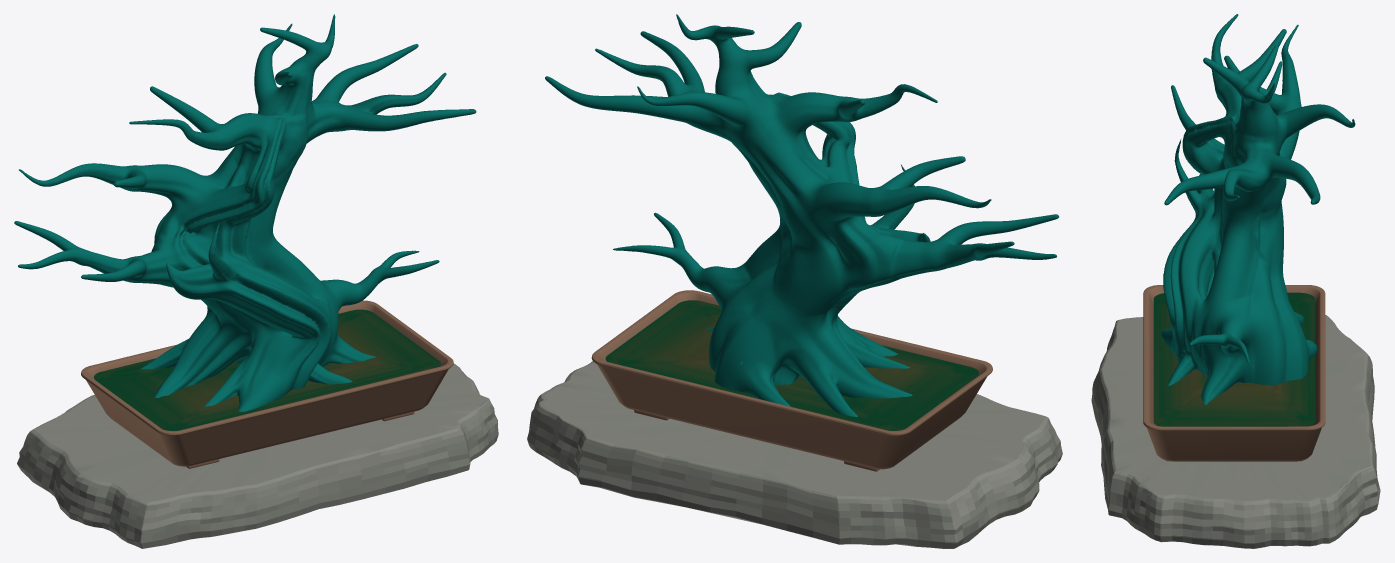
File: hero-v19.glb
3 views of the same model, side by side, from view 1: azimuth 30°, elevation 25°; view 2: azimuth 150°, elevation 25°; view 3: azimuth 270°, elevation 25° (orthographic). The views are drawn at different scales.
Parts seen in each view (by area): view 1: Continuous aged trunk and primary branches, Low split natural bedding stone, Shallow unglazed pot, Continuous planted soil; view 2: Continuous aged trunk and primary branches, Low split natural bedding stone, Shallow unglazed pot, Continuous planted soil; view 3: Continuous aged trunk and primary branches, Low split natural bedding stone, Continuous planted soil, Shallow unglazed pot.
Part boxes in pixels (x1,y1,x2,y2): Continuous aged trunk and primary branches: (14,14,476,411); Low split natural bedding stone: (17,363,498,548); Shallow unglazed pot: (81,300,453,466); Continuous planted soil: (93,309,440,430); Continuous aged trunk and primary branches: (545,14,1059,416); Low split natural bedding stone: (527,361,1062,548); Shallow unglazed pot: (591,290,992,469); Continuous planted soil: (605,300,978,430); Continuous aged trunk and primary branches: (1161,14,1355,404); Low split natural bedding stone: (1091,315,1380,548); Continuous planted soil: (1153,292,1315,426); Shallow unglazed pot: (1143,285,1325,461).
Bounding box in the file's own units: 2.48 × 2.15 × 1.36.
